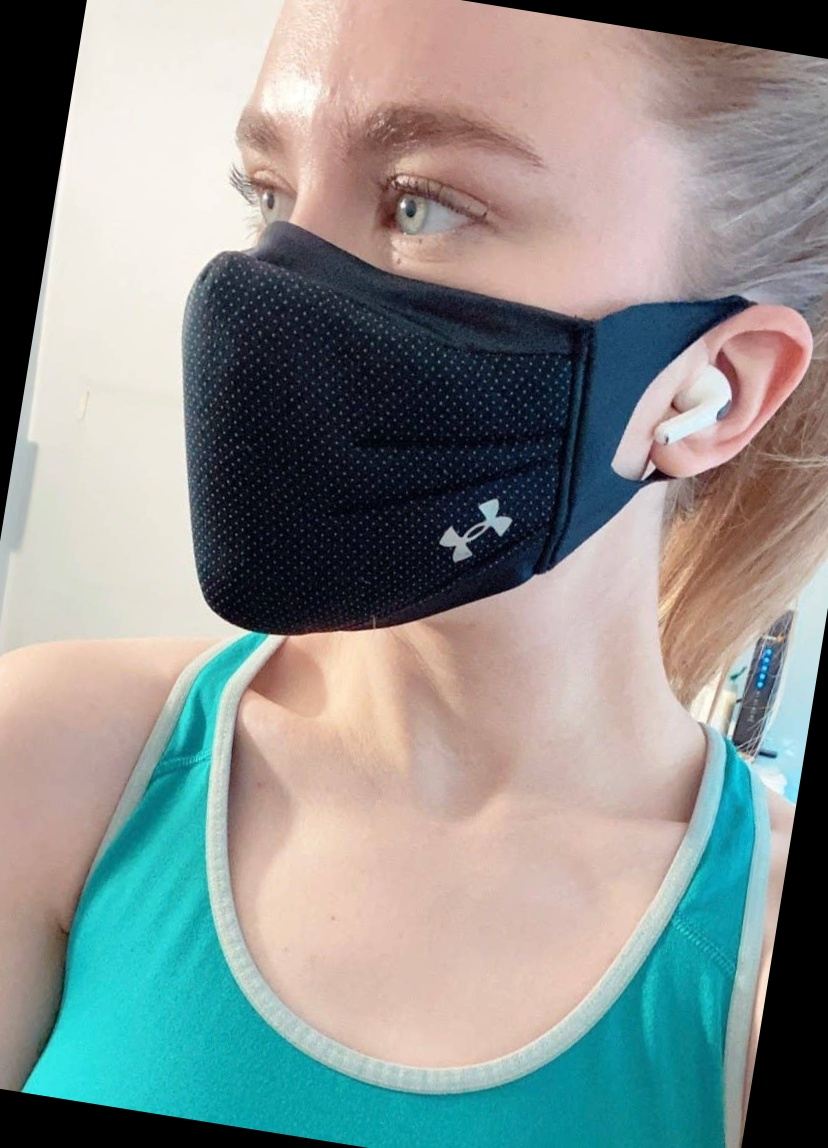earphone: (636, 289, 821, 498)
